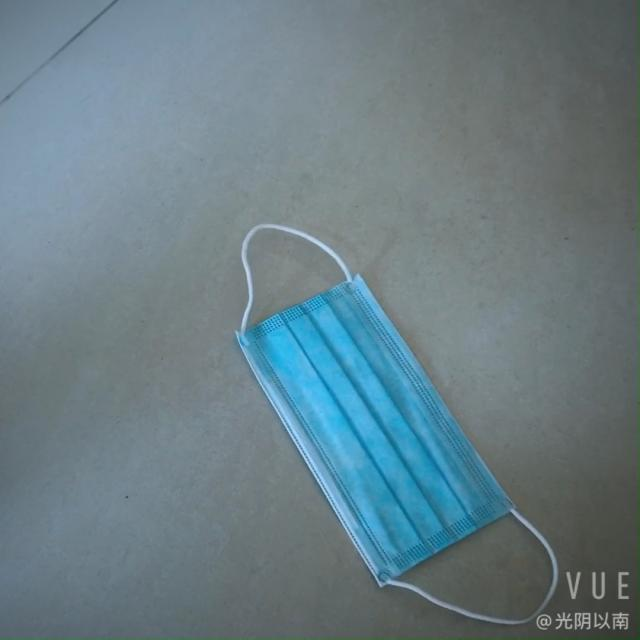non-organic waste: (232, 284, 518, 570)
